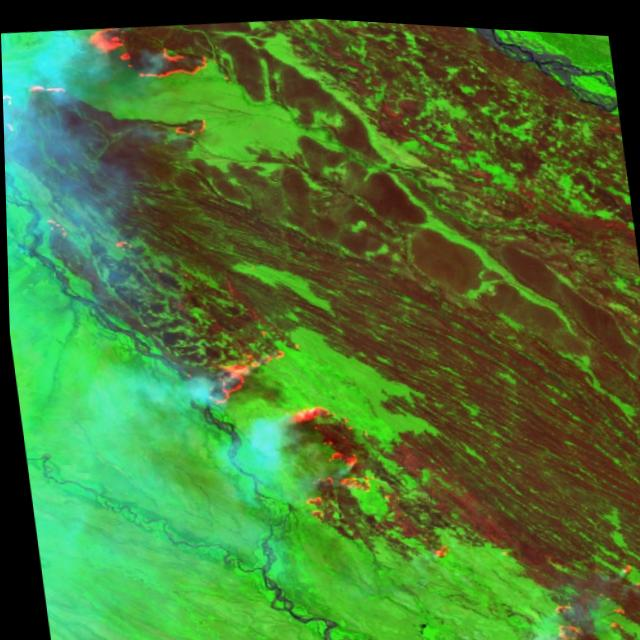fire: (283, 381, 455, 568), (529, 534, 640, 640), (83, 14, 212, 89), (192, 330, 302, 407), (2, 69, 79, 139), (162, 108, 217, 142)
